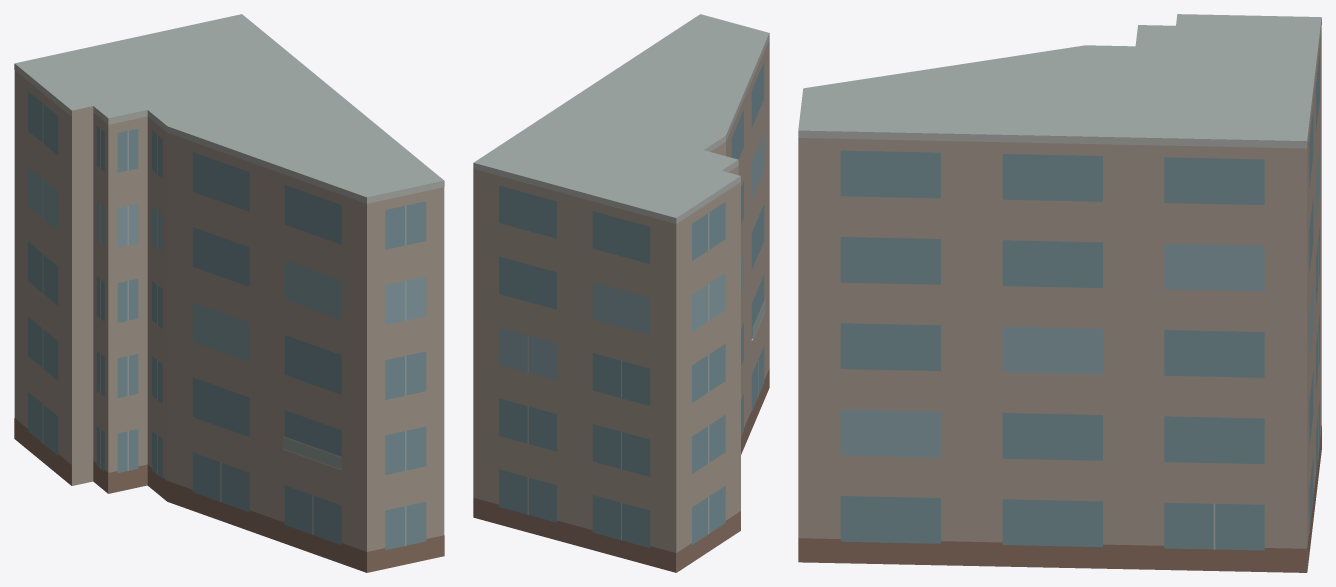
Rendered from survey-upis-32727532.glb.
The picture shows the model from 3 angles, left to right: view 1: azimuth 30°, elevation 25°; view 2: azimuth 150°, elevation 25°; view 3: azimuth 270°, elevation 25°; orthographic projection. The views are drawn at different scales.
Visible parts, largest first — view 1: survey-upis-32727532.tmp; view 2: survey-upis-32727532.tmp; view 3: survey-upis-32727532.tmp.
Boxes of the visible parts, x1=… form: survey-upis-32727532.tmp: x1=14, y1=14, x2=444, y2=572; survey-upis-32727532.tmp: x1=473, y1=14, x2=769, y2=572; survey-upis-32727532.tmp: x1=798, y1=14, x2=1321, y2=572.
Size of the model in its own units: 9.01 by 14.25 by 15.67.
